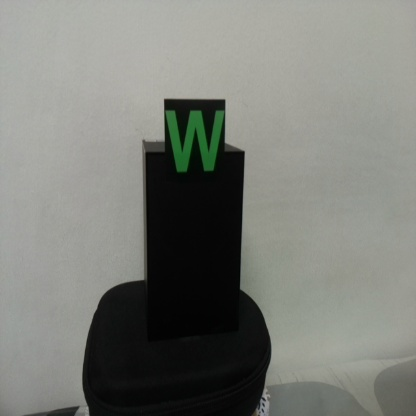id_12: (163, 98, 226, 186)
